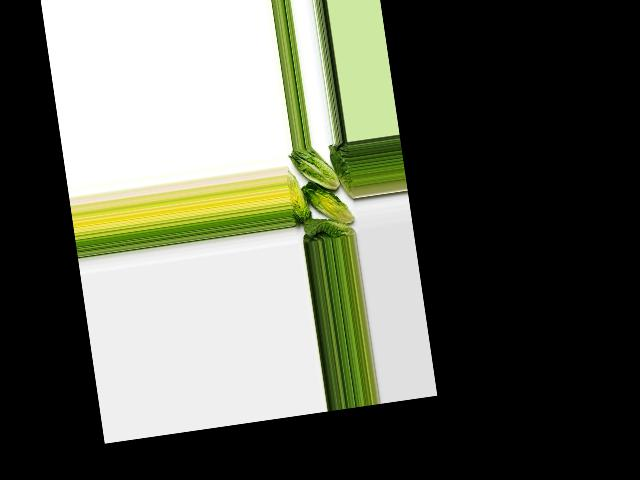lettuce: (299, 211, 354, 243)
